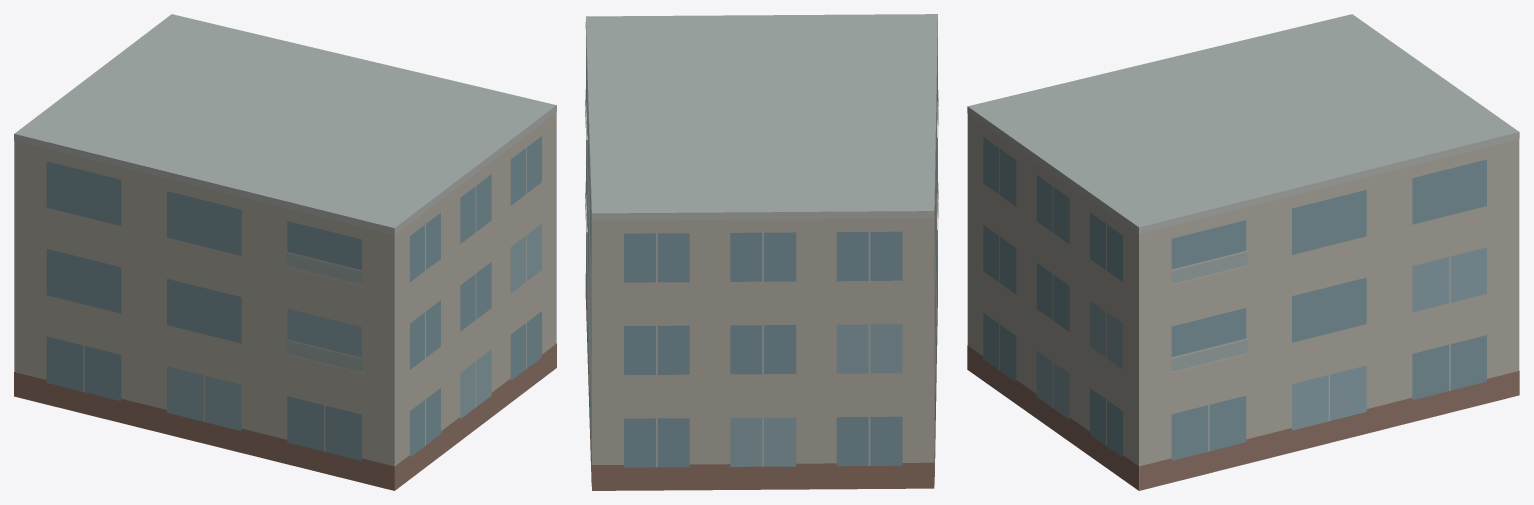
File: survey-upis-32995148.glb
3 renders of one model, left to right at view 1: azimuth 30°, elevation 25°; view 2: azimuth 150°, elevation 25°; view 3: azimuth 270°, elevation 25°, orthographic. The views are drawn at different scales.
Parts seen in each view (by area): view 1: survey-upis-32995148.tmp; view 2: survey-upis-32995148.tmp; view 3: survey-upis-32995148.tmp.
Boxes of the visible parts, box(x1,y1,x2,y2) form: survey-upis-32995148.tmp: box(14, 14, 556, 490); survey-upis-32995148.tmp: box(585, 14, 938, 490); survey-upis-32995148.tmp: box(967, 14, 1519, 490).
Size of the model in its own units: 15.91 by 9.15 by 17.39.
